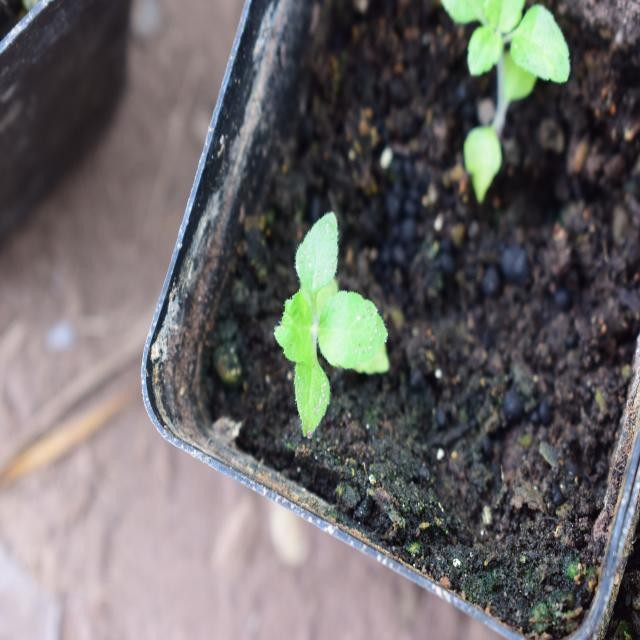billygoat_weed: (246, 206, 386, 451)
